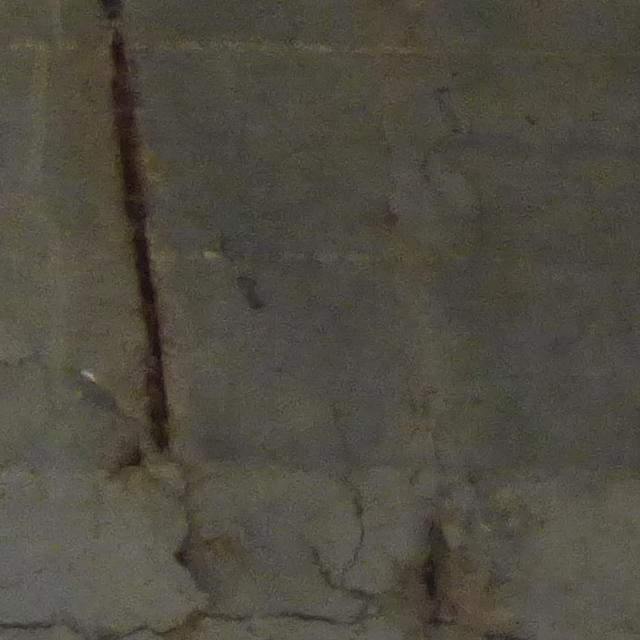Rust: (104, 31, 175, 452), (101, 449, 142, 483), (418, 551, 440, 601)
